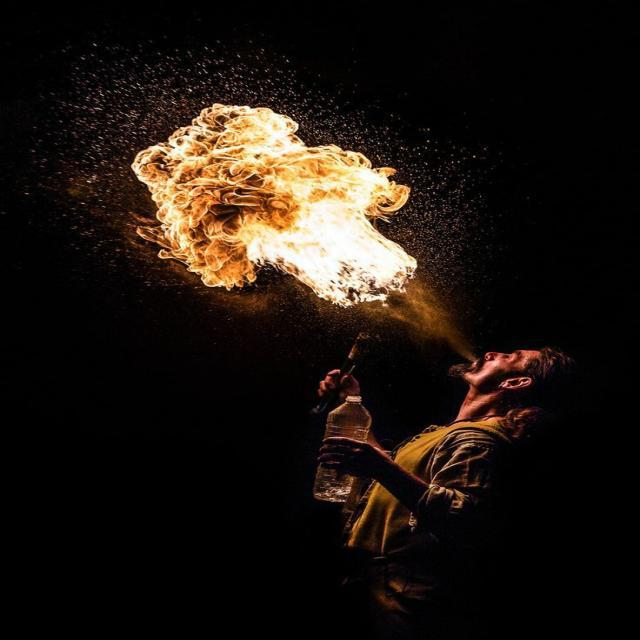Fire: (78, 58, 436, 340)
